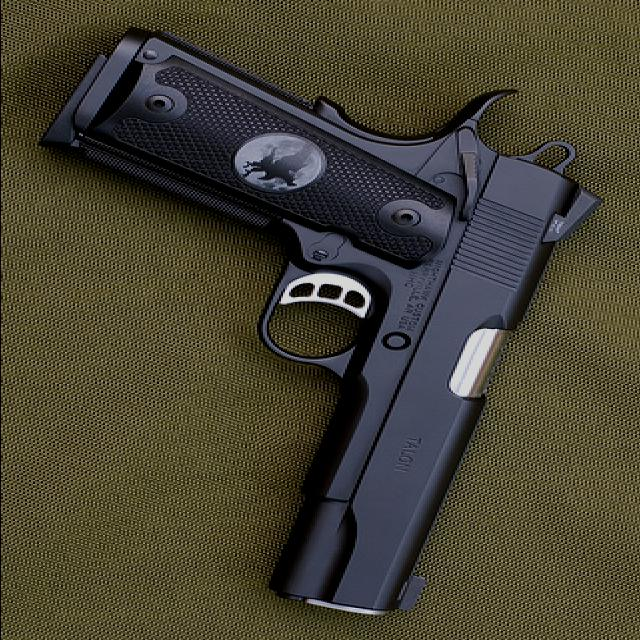handgun: (42, 22, 604, 618)
